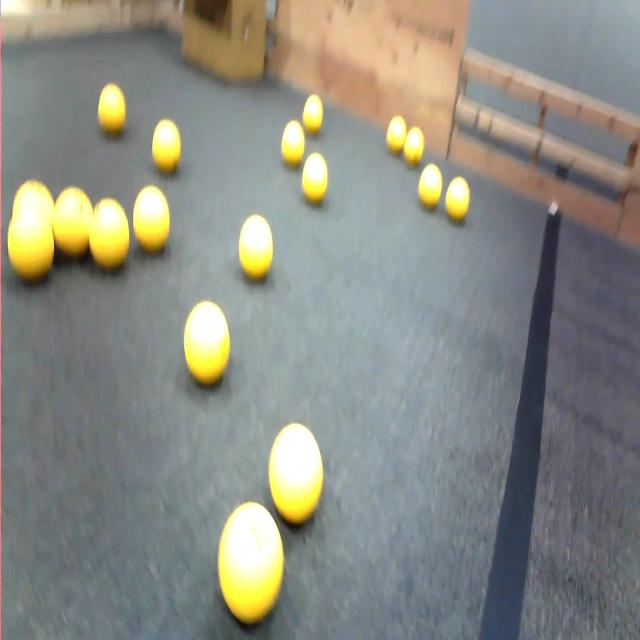fuel: (218, 503, 283, 624), (269, 424, 323, 525), (184, 302, 229, 385), (7, 209, 54, 280), (89, 199, 129, 271), (53, 187, 93, 257), (133, 185, 169, 253), (239, 216, 273, 279), (12, 180, 54, 224), (152, 120, 181, 173), (98, 83, 126, 135), (302, 152, 327, 204), (281, 120, 305, 167), (446, 177, 469, 223), (418, 164, 442, 208), (303, 95, 323, 135), (404, 128, 424, 167), (386, 116, 406, 153)
